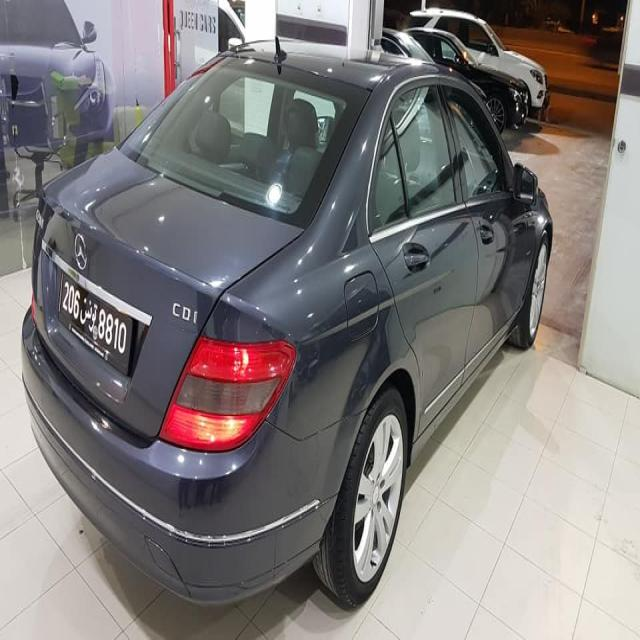LP: (57, 267, 131, 367)
